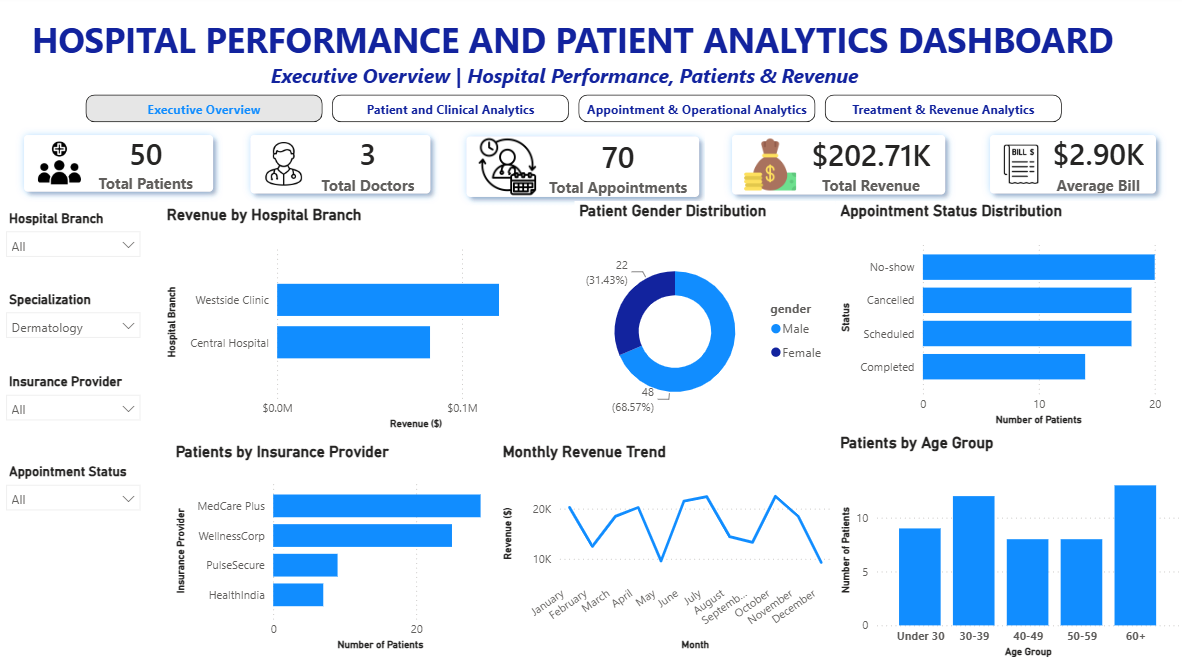

What the dashboard file says about the page in this screenshot:
{"tool":"powerbi","page":{"name":"Executive Overview","canvas":[1280,720],"ordinal":0},"visuals":[{"type":"textbox","box":[32.4,0,1199.4,107.3],"z":0},{"type":"cardVisual","fields":{"Data":["Executive Dashboard.Total Patients"]},"box":[0,122.8,262.3,119.8],"z":1000},{"type":"cardVisual","fields":{"Data":["Executive Dashboard.Total Doctors"]},"box":[243.9,122.8,252.6,121.4],"z":2000},{"type":"cardVisual","fields":{"Data":["Executive Dashboard.Total Appointments"]},"box":[477.7,124.5,309.3,123.1],"z":3000},{"type":"cardVisual","fields":{"Data":["Executive Dashboard.Total Revenue"]},"box":[764.3,122.8,288.3,122.8],"z":4000},{"type":"cardVisual","fields":{"Data":["Executive Dashboard.Average Bill"]},"box":[1042.3,122.8,237.1,121.1],"z":5000},{"type":"clusteredBarChart","title":"Revenue by Hospital Branch","fields":{"Category":["Executive Dashboard.hospital_branch"],"Y":["Executive Dashboard.Total Revenue"]},"box":[178.1,228.3,445.3,246.1],"z":6000},{"type":"donutChart","title":"Patient Gender Distribution","fields":{"Category":["Executive Dashboard.gender"],"Y":["CountNonNull(Executive Dashboard.patient_id)"]},"box":[623.3,223.7,281.2,251.6],"z":7000},{"type":"clusteredBarChart","title":"Patients by Insurance Provider","fields":{"Category":["Executive Dashboard.insurance_provider"],"Y":["CountNonNull(Executive Dashboard.patient_id)"]},"box":[187.5,483.5,353.6,228.6],"z":8000},{"type":"clusteredColumnChart","title":"Patients by Age Group","fields":{"Category":["Patients.Age_Group"],"Y":["CountNonNull(Patients.patient_id)"]},"box":[905.1,474.4,375.7,246.1],"z":9000},{"type":"clusteredBarChart","title":"Appointment Status Distribution","fields":{"Category":["Executive Dashboard.status"],"Y":["CountNonNull(Executive Dashboard.appointment_id)"]},"box":[905.1,223.5,356.2,246.1],"z":10000},{"type":"lineChart","title":"Monthly Revenue Trend","fields":{"Category":["Executive Dashboard.Bill_Month"],"Y":["Sum(Executive Dashboard.amount)"]},"box":[541.1,483.5,363.4,228.6],"z":11000},{"type":"slicer","fields":{"Values":["Executive Dashboard.hospital_branch"]},"box":[0,228.6,164.5,131.6],"z":12000},{"type":"slicer","fields":{"Values":["Executive Dashboard.specialization"]},"box":[0,315.8,164.5,88.8],"z":13000},{"type":"slicer","fields":{"Values":["Executive Dashboard.insurance_provider"]},"box":[0,404.6,164.5,97],"z":14000},{"type":"slicer","fields":{"Values":["Executive Dashboard.status"]},"box":[0,501.6,164.5,97],"z":15000},{"type":"pageNavigator","box":[95.4,109,1056.3,30.7],"z":16000}]}

Visuals, with their boxes in screenshot pixels (x1, y1, x2, y2), scaled from the page's 1280x720 canvas onto the 1182x660 screenshot:
textbox: 30 0 1137 98
cardVisual - Executive Dashboard.Total Patients: 0 113 242 222
cardVisual - Executive Dashboard.Total Doctors: 225 113 458 224
cardVisual - Executive Dashboard.Total Appointments: 441 114 727 227
cardVisual - Executive Dashboard.Total Revenue: 706 113 972 225
cardVisual - Executive Dashboard.Average Bill: 962 113 1181 224
"Revenue by Hospital Branch" clusteredBarChart: 164 209 576 435
"Patient Gender Distribution" donutChart: 576 205 835 436
"Patients by Insurance Provider" clusteredBarChart: 173 443 500 653
"Patients by Age Group" clusteredColumnChart: 836 435 1181 659
"Appointment Status Distribution" clusteredBarChart: 836 205 1165 430
"Monthly Revenue Trend" lineChart: 500 443 835 653
slicer - Executive Dashboard.hospital_branch: 0 210 152 330
slicer - Executive Dashboard.specialization: 0 289 152 371
slicer - Executive Dashboard.insurance_provider: 0 371 152 460
slicer - Executive Dashboard.status: 0 460 152 549
pageNavigator: 88 100 1064 128
